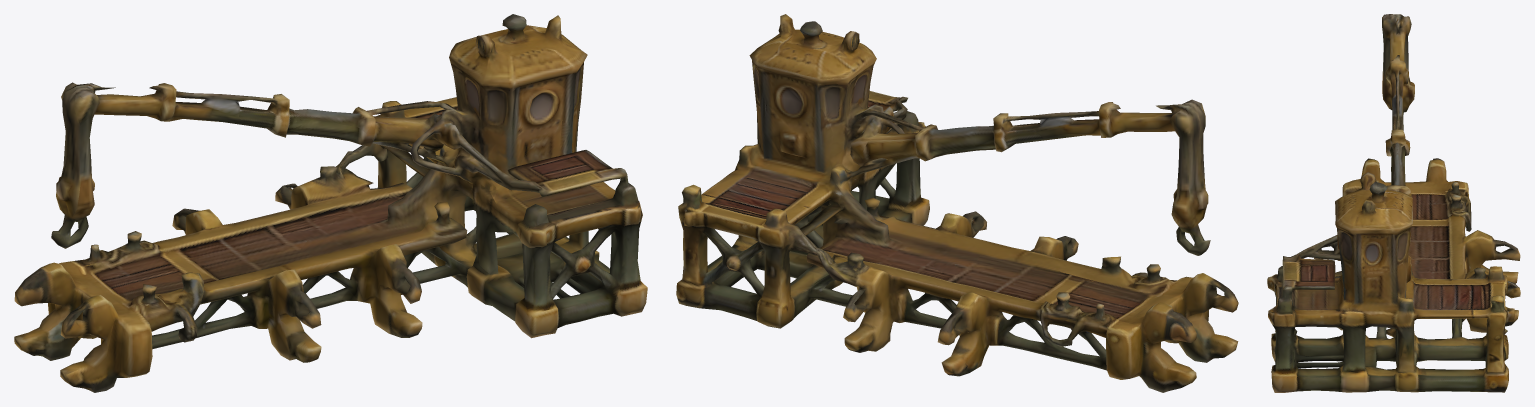
File: Brasswake side docking arm.glb
3 renders of one model, left to right at view 1: azimuth 30°, elevation 25°; view 2: azimuth 150°, elevation 25°; view 3: azimuth 270°, elevation 25°, orthographic. The views are drawn at different scales.
Visible parts, largest first — view 1: DockCrane; view 2: DockCrane; view 3: DockCrane.
Boxes of the visible parts, x1,y1,x2,y2 form: DockCrane: (14,14,647,392); DockCrane: (676,14,1238,392); DockCrane: (1267,14,1520,392).
Bounding box in the file's own units: 3.2 × 1.7 × 1.84.
Materials: 1 (1 with a texture image).
